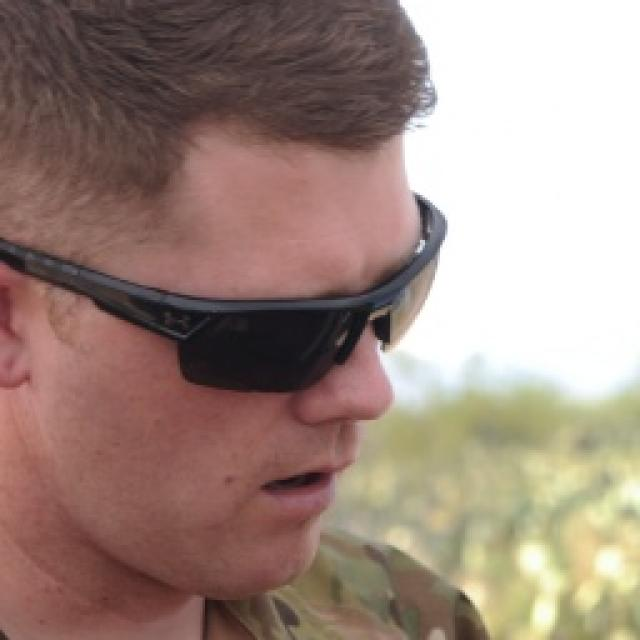glasses: (57, 200, 488, 406)
